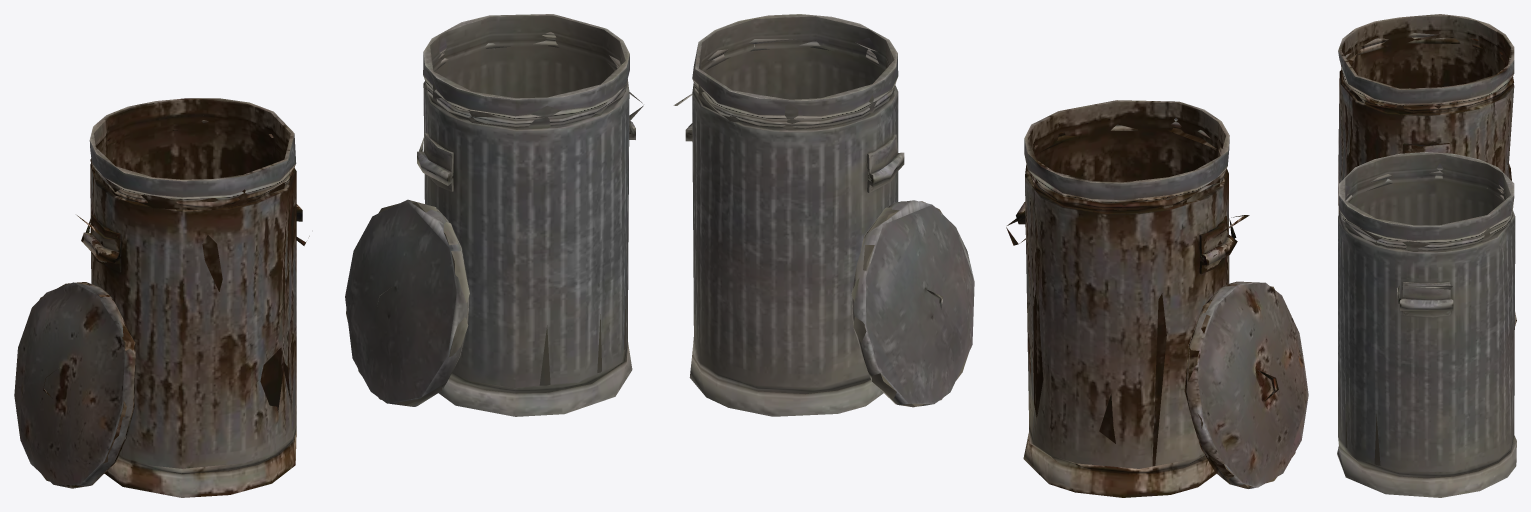
The model's file is metal_trash_can.glb.
3 views of the same model, side by side, from view 1: azimuth 30°, elevation 25°; view 2: azimuth 150°, elevation 25°; view 3: azimuth 270°, elevation 25° (orthographic). The views are drawn at different scales.
Visible parts, largest first — view 1: metal_trash_can_handle_left, metal_trash_can_rust; view 2: metal_trash_can_handle_left, metal_trash_can_rust; view 3: metal_trash_can_handle_left, metal_trash_can_rust.
Boxes of the visible parts, x1,y1,x2,y2 form: metal_trash_can_handle_left: [345, 14, 643, 416]; metal_trash_can_rust: [14, 98, 309, 497]; metal_trash_can_handle_left: [673, 14, 974, 416]; metal_trash_can_rust: [1006, 100, 1308, 497]; metal_trash_can_handle_left: [1337, 152, 1516, 497]; metal_trash_can_rust: [1338, 14, 1516, 325].
Size of the model in its own units: 1.78 by 0.9062 by 0.5463.
Materials: 2 (2 with a texture image).
